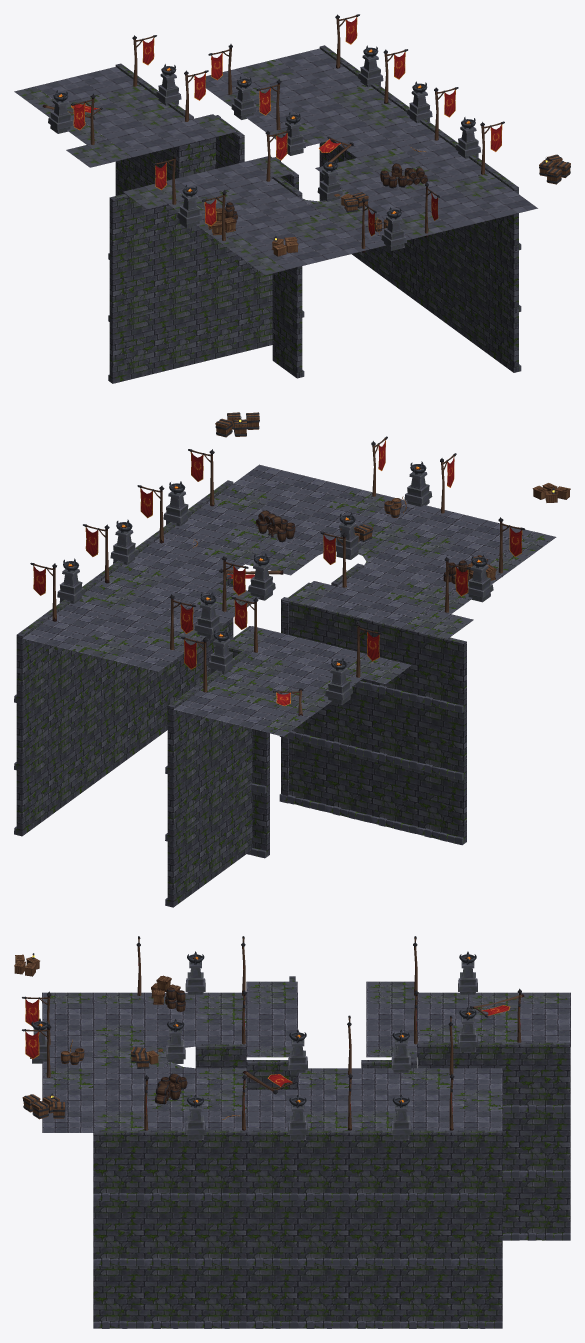
The model's file is ExteriorWalls2.gltf.
The picture shows the model from 3 angles, top to bottom: view 1: azimuth 30°, elevation 25°; view 2: azimuth 150°, elevation 25°; view 3: azimuth 270°, elevation 25°; orthographic projection. The views are drawn at different scales.
Visible parts, largest first — view 1: ExteriorWalls2; view 2: ExteriorWalls2; view 3: ExteriorWalls2.
Boxes of the visible parts, left/top/right/bottom form: ExteriorWalls2: left=14, top=14, right=570, bottom=383; ExteriorWalls2: left=14, top=412, right=570, bottom=907; ExteriorWalls2: left=14, top=936, right=570, bottom=1328.
Size of the model in its own units: 32.29 by 21.88 by 43.54.
13 materials, 13 textured.
